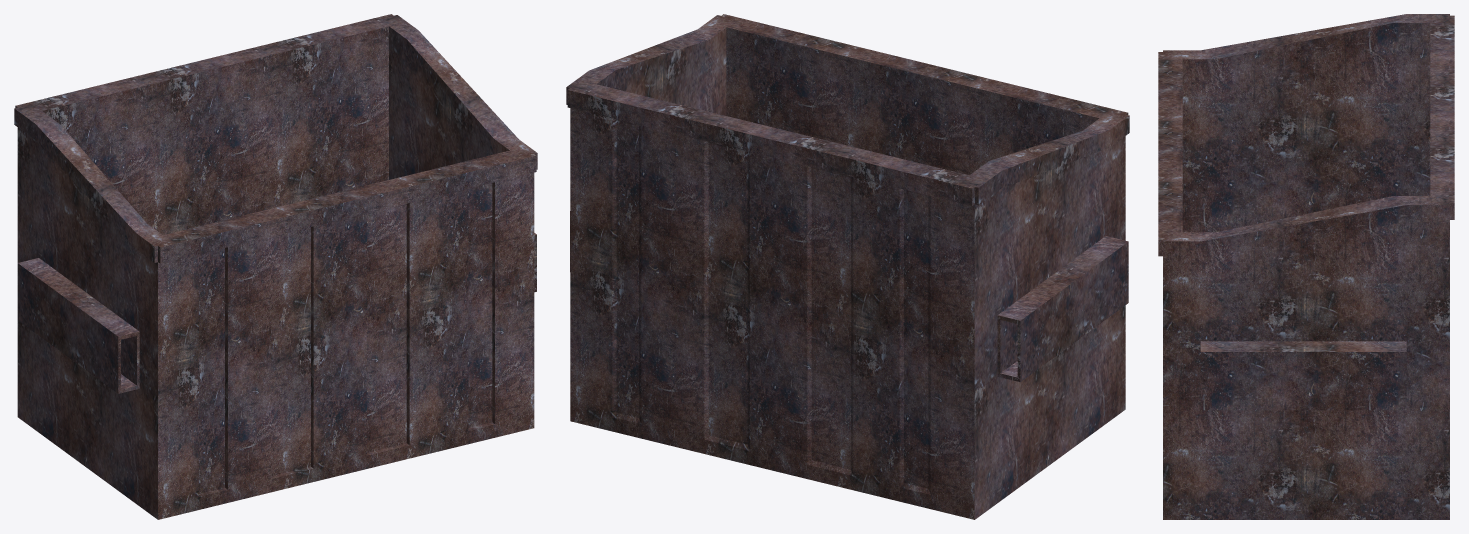
File: Trashbin (free3dmodels).fbx
The picture shows the model from 3 angles, left to right: view 1: azimuth 30°, elevation 25°; view 2: azimuth 150°, elevation 25°; view 3: azimuth 270°, elevation 25°; orthographic projection. The views are drawn at different scales.
Parts seen in each view (by area): view 1: Box001; view 2: Box001; view 3: Box001.
Part boxes in pixels (bbox=[...]): Box001: bbox=[14, 14, 537, 519]; Box001: bbox=[566, 14, 1129, 519]; Box001: bbox=[1158, 14, 1454, 519].
Bounding box in the file's own units: 5.61 × 3.97 × 3.37.
